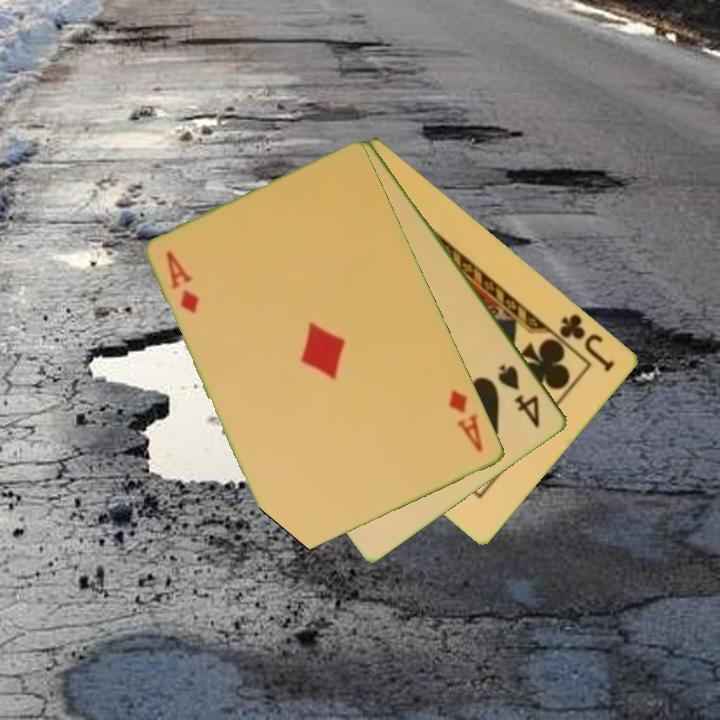4s: (495, 361, 544, 432)
Ad: (445, 386, 487, 455), (162, 247, 203, 317)
Jc: (556, 310, 619, 375)
